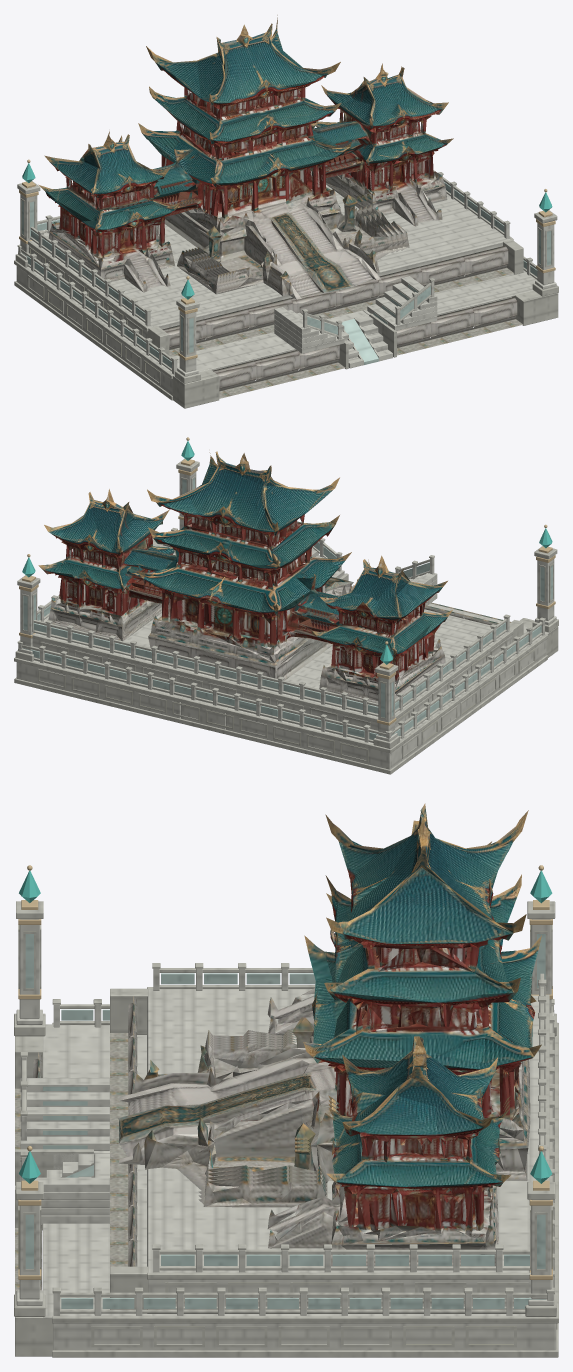
The model's file is scripture_L06_refined.glb.
The picture shows the model from 3 angles, top to bottom: view 1: azimuth 30°, elevation 25°; view 2: azimuth 150°, elevation 25°; view 3: azimuth 270°, elevation 25°; orthographic projection. The views are drawn at different scales.
Visible parts, largest first — view 1: L6_terrace_detail, L6_centre, L6_wing_left, L6_wing_right, plinth_centred_1, plinth_out_left_1, plinth_centred_7, plinth_out_right_2, plinth_out_right_1, plinth_centred_6, plinth_out_left_2, plinth_centred_4 (+9 smaller); view 2: L6_terrace_detail, L6_centre, L6_wing_left, L6_wing_right; view 3: L6_terrace_detail, L6_centre, L6_wing_right, L6_wing_left, gallery_slice_-1, plinth_centred_5, plinth_centred_0, plinth_centred_1, plinth_centred_6, gallery_fill_1_1, gallery_fill_1_3, gallery_fill_1_2 (+3 smaller).
Part boxes in pixels (<box>): L6_terrace_detail: <box>14,72,558,408</box>; L6_centre: <box>138,15,388,299</box>; L6_wing_left: <box>38,131,220,294</box>; L6_wing_right: <box>316,63,453,248</box>; plinth_centred_1: <box>204,308,255,346</box>; plinth_out_left_1: <box>254,350,305,388</box>; plinth_centred_7: <box>463,245,513,283</box>; plinth_out_right_2: <box>472,296,522,334</box>; plinth_out_right_1: <box>429,307,479,345</box>; plinth_centred_6: <box>420,256,470,292</box>; plinth_out_left_2: <box>212,360,261,398</box>; plinth_centred_4: <box>334,278,378,315</box>; L6_terrace_detail: <box>14,437,558,774</box>; L6_centre: <box>138,451,357,682</box>; L6_wing_left: <box>311,555,452,703</box>; L6_wing_right: <box>38,489,174,641</box>; L6_terrace_detail: <box>14,865,558,1357</box>; L6_centre: <box>118,803,541,1188</box>; L6_wing_right: <box>203,1036,510,1266</box>; L6_wing_left: <box>203,820,491,1056</box>; gallery_slice_-1: <box>205,1041,296,1070</box>; plinth_centred_5: <box>110,1165,137,1235</box>; plinth_centred_0: <box>110,996,137,1066</box>; plinth_centred_1: <box>110,1030,137,1100</box>; plinth_centred_6: <box>110,1199,137,1266</box>; gallery_fill_1_1: <box>198,1100,510,1196</box>; gallery_fill_1_3: <box>198,1113,506,1204</box>; gallery_fill_1_2: <box>198,1103,509,1198</box>.
Bounding box in the file's own units: 7.51 × 4.68 × 5.85.
Materials: 2 (2 with a texture image).
